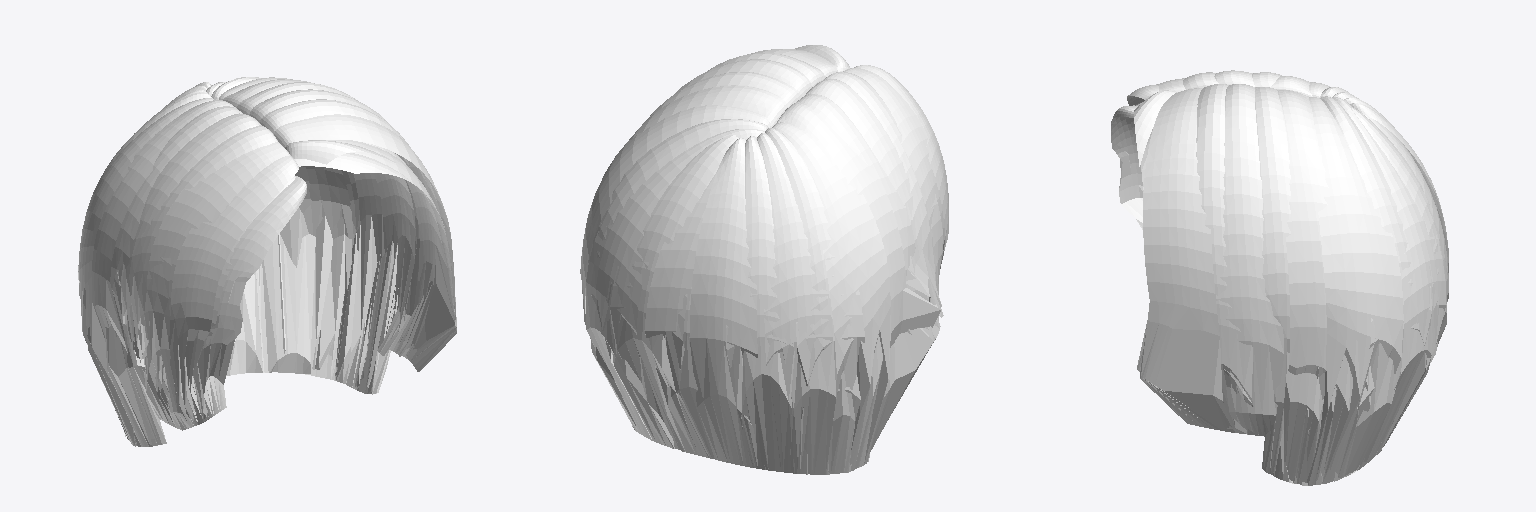
Rendered from laslohair.obj.
The picture shows the model from 3 angles: view 1: azimuth 30°, elevation 25°; view 2: azimuth 150°, elevation 25°; view 3: azimuth 270°, elevation 25°; orthographic projection.
Visible parts, largest first — view 1: Item_0; view 2: Item_0; view 3: Item_0.
Boxes of the visible parts, box(x1,y1,x2,y2) form: Item_0: box(78, 77, 456, 446); Item_0: box(580, 45, 948, 474); Item_0: box(1111, 70, 1448, 485).
Bounding box in the file's own units: 17.76 × 19.29 × 17.11.